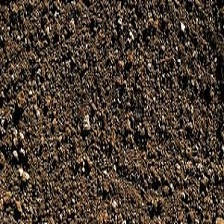loamy_soil: (6, 30, 218, 191)
